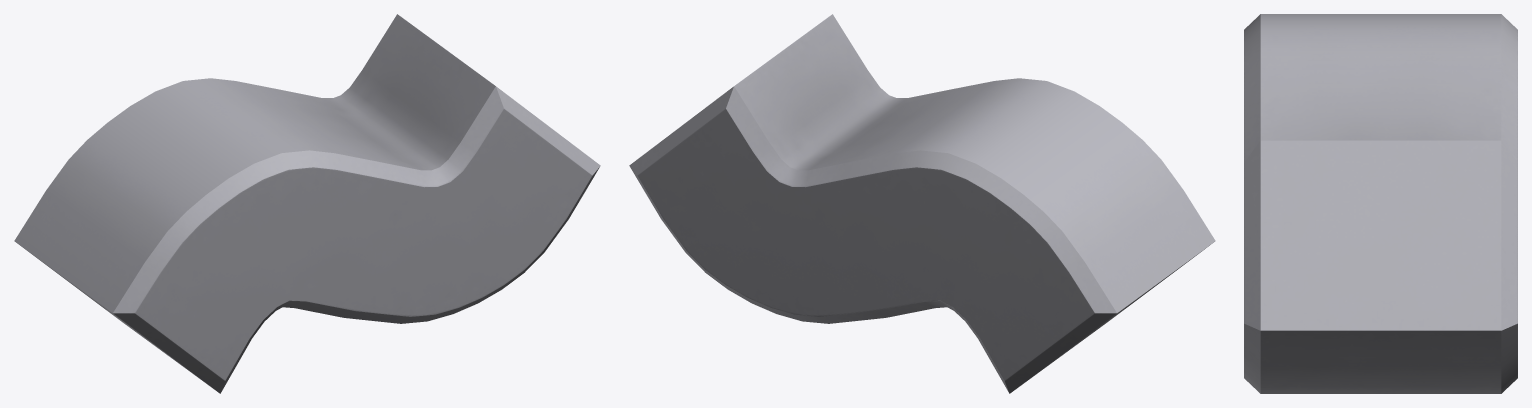
File: Tilde.FBX
3 views of the same model, side by side, from view 1: azimuth 30°, elevation 25°; view 2: azimuth 150°, elevation 25°; view 3: azimuth 270°, elevation 25° (orthographic). The views are drawn at different scales.
Parts seen in each view (by area): view 1: Tilde; view 2: Tilde; view 3: Tilde.
Boxes of the visible parts, <box> form: Tilde: <box>14,14,600,393</box>; Tilde: <box>629,14,1215,393</box>; Tilde: <box>1244,14,1517,393</box>.
Size of the model in its own units: 82.84 by 39.03 by 33.
